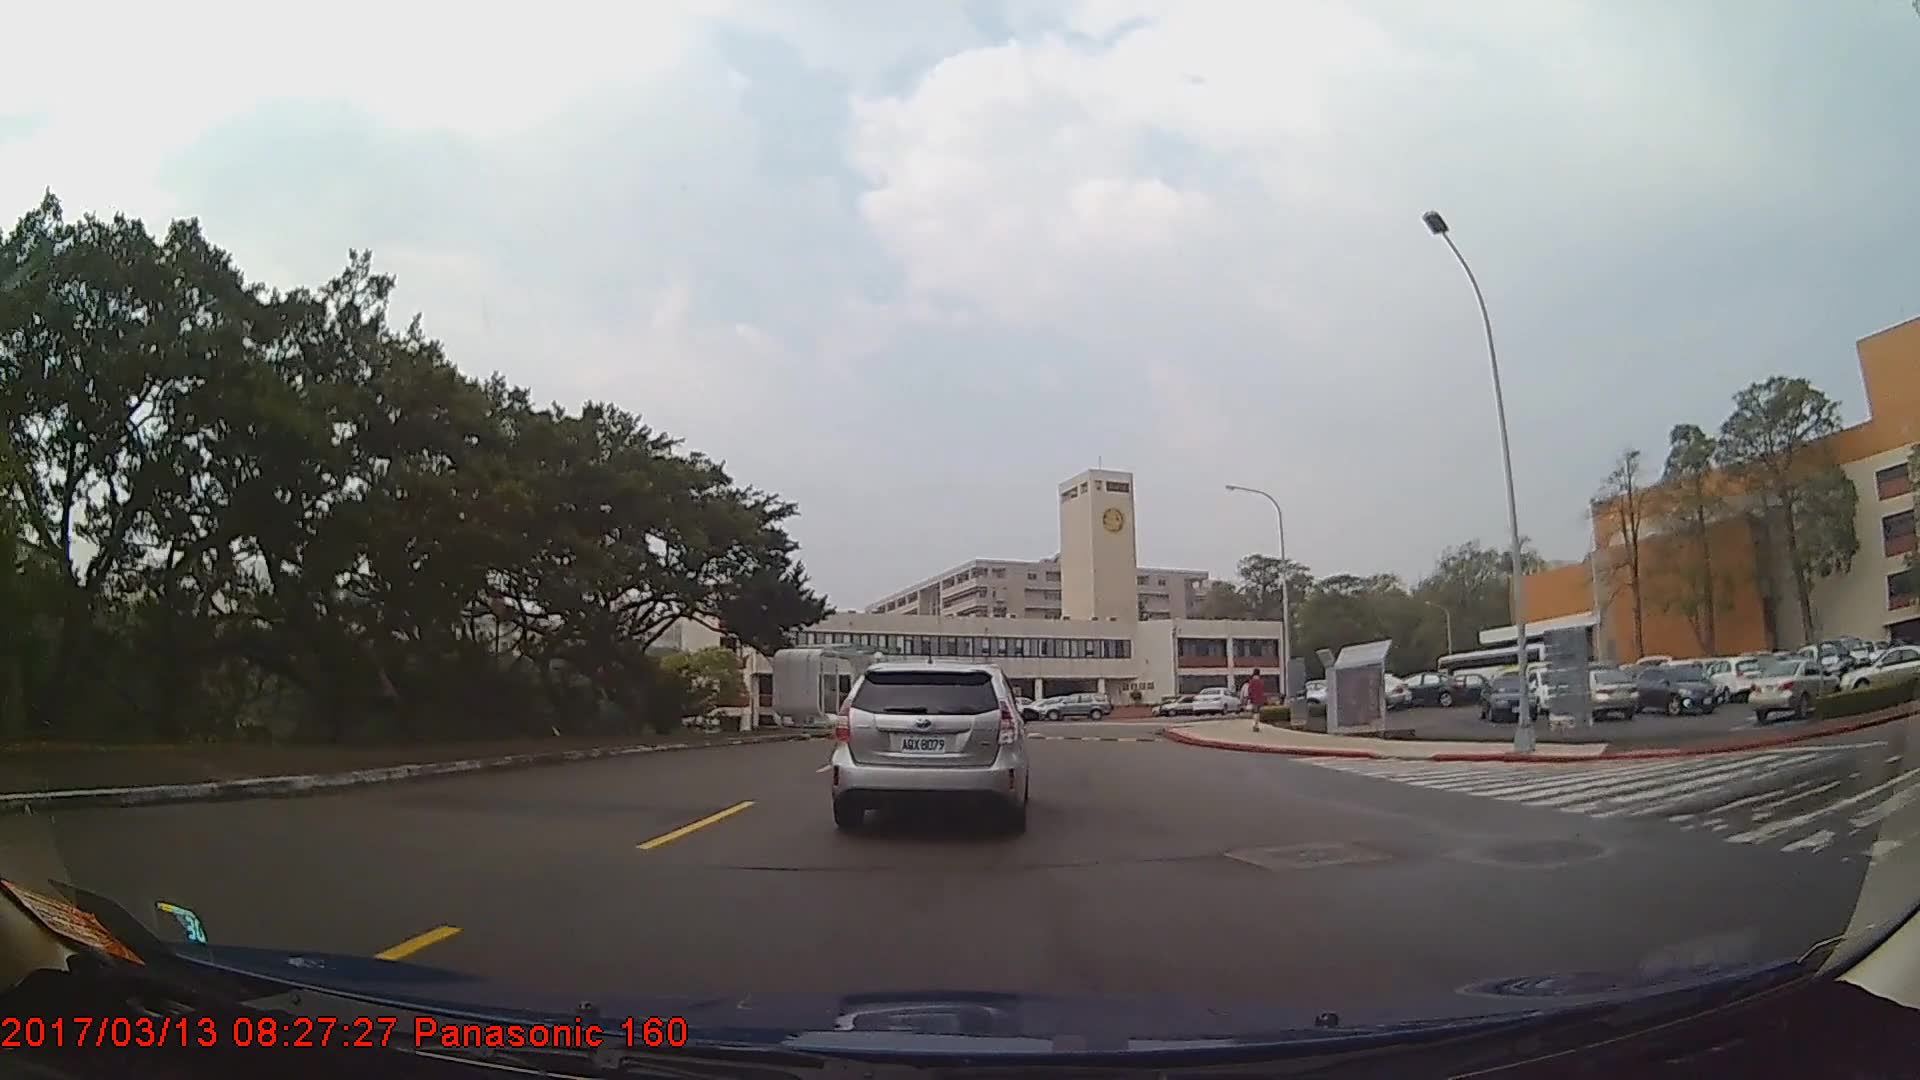pedestrian: (1247, 670, 1270, 733)
vehicle: (832, 654, 1028, 832), (1748, 658, 1841, 722), (1630, 663, 1717, 716), (1839, 648, 1920, 696), (1579, 666, 1639, 722), (1698, 655, 1763, 705), (1479, 673, 1541, 722), (1390, 672, 1465, 709), (1034, 689, 1112, 719), (1190, 685, 1243, 716)
